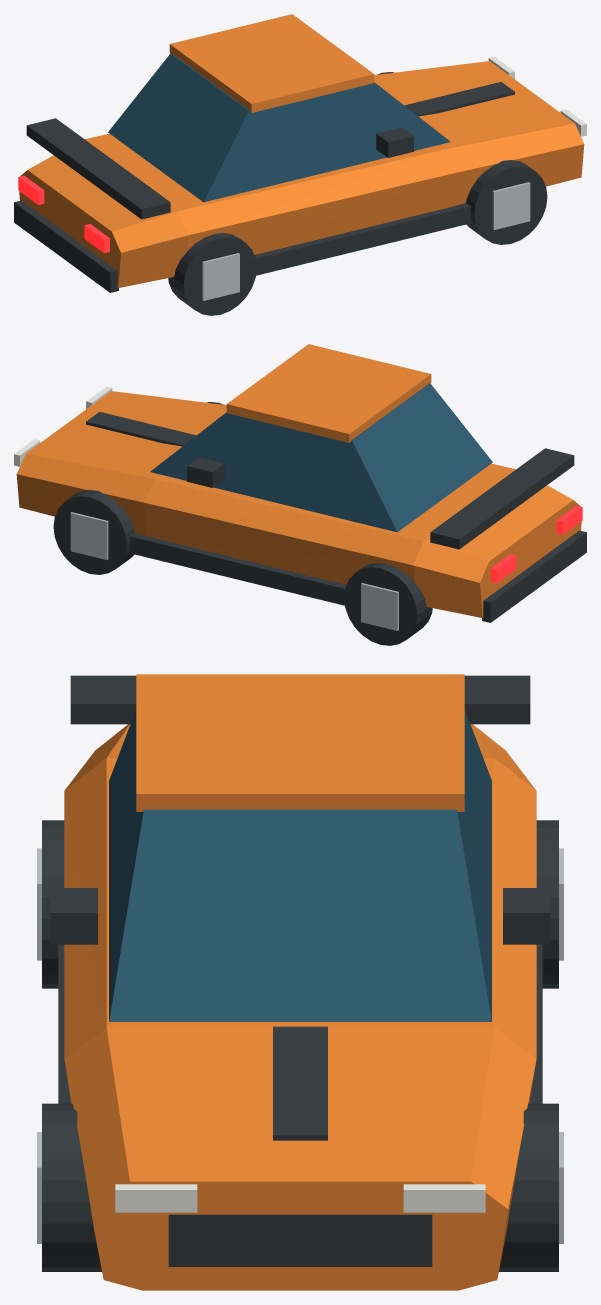
Rendered from street-gt.glb.
3 renders of one model, top to bottom at view 1: azimuth 30°, elevation 25°; view 2: azimuth 150°, elevation 25°; view 3: azimuth 270°, elevation 25°, orthographic. The views are drawn at different scales.
Parts seen in each view (by area): view 1: Sculpted GT body, Glass canopy, Roof, Tire (×2), Rear spoiler, Side sill, Wheel hub (×2), Rear bumper, Hood stripe, Tail lamp (×2), Mirror; view 2: Sculpted GT body, Glass canopy, Roof, Tire (×2), Rear spoiler, Side sill, Wheel hub (×2), Rear bumper, Hood stripe, Tail lamp (×2), Mirror; view 3: Sculpted GT body, Glass canopy, Roof, Tire (×4), Front grille, Rear spoiler, Hood stripe, Mirror (×2), LED headlight (×2), Side sill (×2).
Boxes of the visible parts, <box> form: Sculpted GT body: <box>19,61,584,287</box>; Glass canopy: <box>108,53,450,202</box>; Roof: <box>169,14,374,112</box>; Tire (×2): <box>168,160,547,315</box>; Rear spoiler: <box>26,118,170,219</box>; Side sill: <box>254,203,471,275</box>; Wheel hub (×2): <box>202,182,530,300</box>; Rear bumper: <box>14,200,118,292</box>; Hood stripe: <box>404,82,514,116</box>; Tail lamp (×2): <box>18,175,109,253</box>; Mirror: <box>376,127,413,157</box>; Sculpted GT body: <box>16,391,581,617</box>; Glass canopy: <box>150,383,492,532</box>; Roof: <box>226,344,431,442</box>; Tire (×2): <box>53,490,432,645</box>; Rear spoiler: <box>430,448,574,549</box>; Side sill: <box>129,533,346,605</box>; Wheel hub (×2): <box>70,512,398,630</box>; Rear bumper: <box>482,530,586,622</box>; Hood stripe: <box>86,412,196,446</box>; Tail lamp (×2): <box>491,505,582,583</box>; Mirror: <box>187,457,224,487</box>; Sculpted GT body: <box>64,724,536,1290</box>; Glass canopy: <box>109,709,491,1021</box>; Roof: <box>136,674,464,811</box>; Tire (×4): <box>42,820,558,1271</box>; Front grille: <box>168,1214,432,1266</box>; Rear spoiler: <box>70,675,530,724</box>; Hood stripe: <box>273,1026,327,1140</box>; Mirror (×2): <box>50,888,550,944</box>; LED headlight (×2): <box>115,1184,485,1212</box>; Side sill (×2): <box>58,944,542,1103</box>.
Size of the model in its own units: 4.45 by 1.6 by 2.12.
